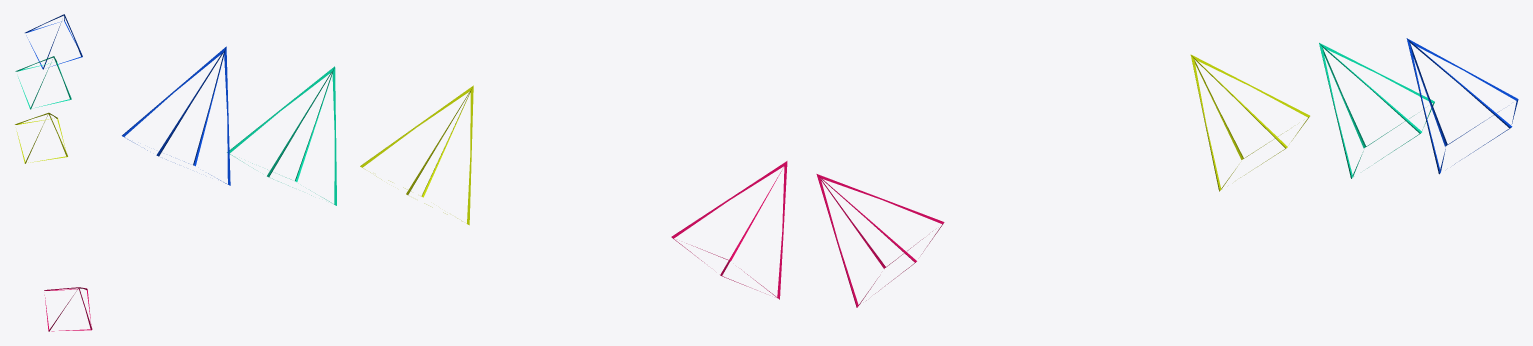
Rendered from kitchen1_pi3.glb.
The picture shows the model from 3 angles, left to right: view 1: azimuth 30°, elevation 25°; view 2: azimuth 150°, elevation 25°; view 3: azimuth 270°, elevation 25°; orthographic projection. The views are drawn at different scales.
Visible parts, largest first — view 1: world; view 2: world; view 3: world.
Boxes of the visible parts, x1,y1,x2,y2 form: world: (15, 14, 92, 331); world: (122, 46, 787, 299); world: (816, 38, 1518, 307).
Size of the model in its own units: 0.3189 by 0.3322 by 0.5597.
